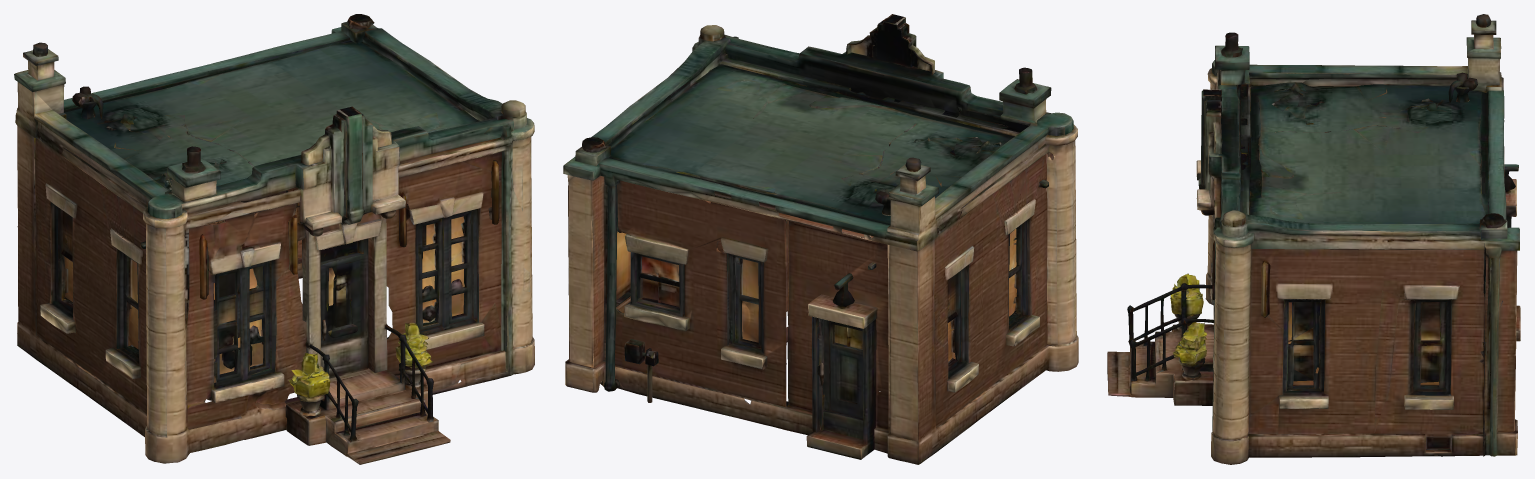
3 views of the same model, side by side, from view 1: azimuth 30°, elevation 25°; view 2: azimuth 150°, elevation 25°; view 3: azimuth 270°, elevation 25° (orthographic). The views are drawn at different scales.
Visible parts, largest first — view 1: expansion__villa_1__native_mobile; view 2: expansion__villa_1__native_mobile; view 3: expansion__villa_1__native_mobile.
Part boxes in pixels (left/top/right/bottom): expansion__villa_1__native_mobile: left=14, top=14, right=534, bottom=464; expansion__villa_1__native_mobile: left=563, top=14, right=1078, bottom=464; expansion__villa_1__native_mobile: left=1107, top=14, right=1520, bottom=464.
Bounding box in the file's own units: 1 × 0.7549 × 0.984.
1 material, 1 textured.
